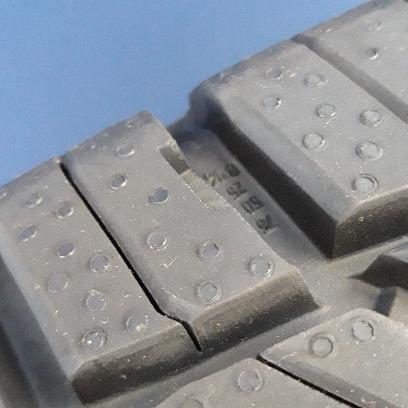temoin:100: (156, 136, 240, 220)
